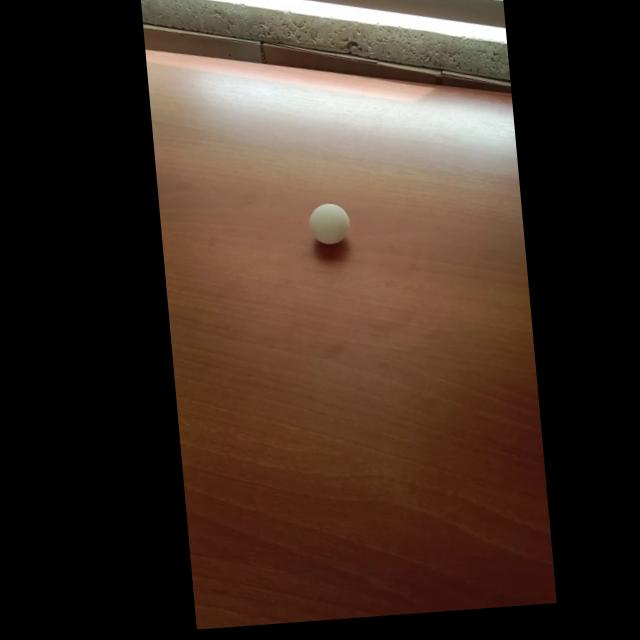white ball: (307, 201, 351, 246)
